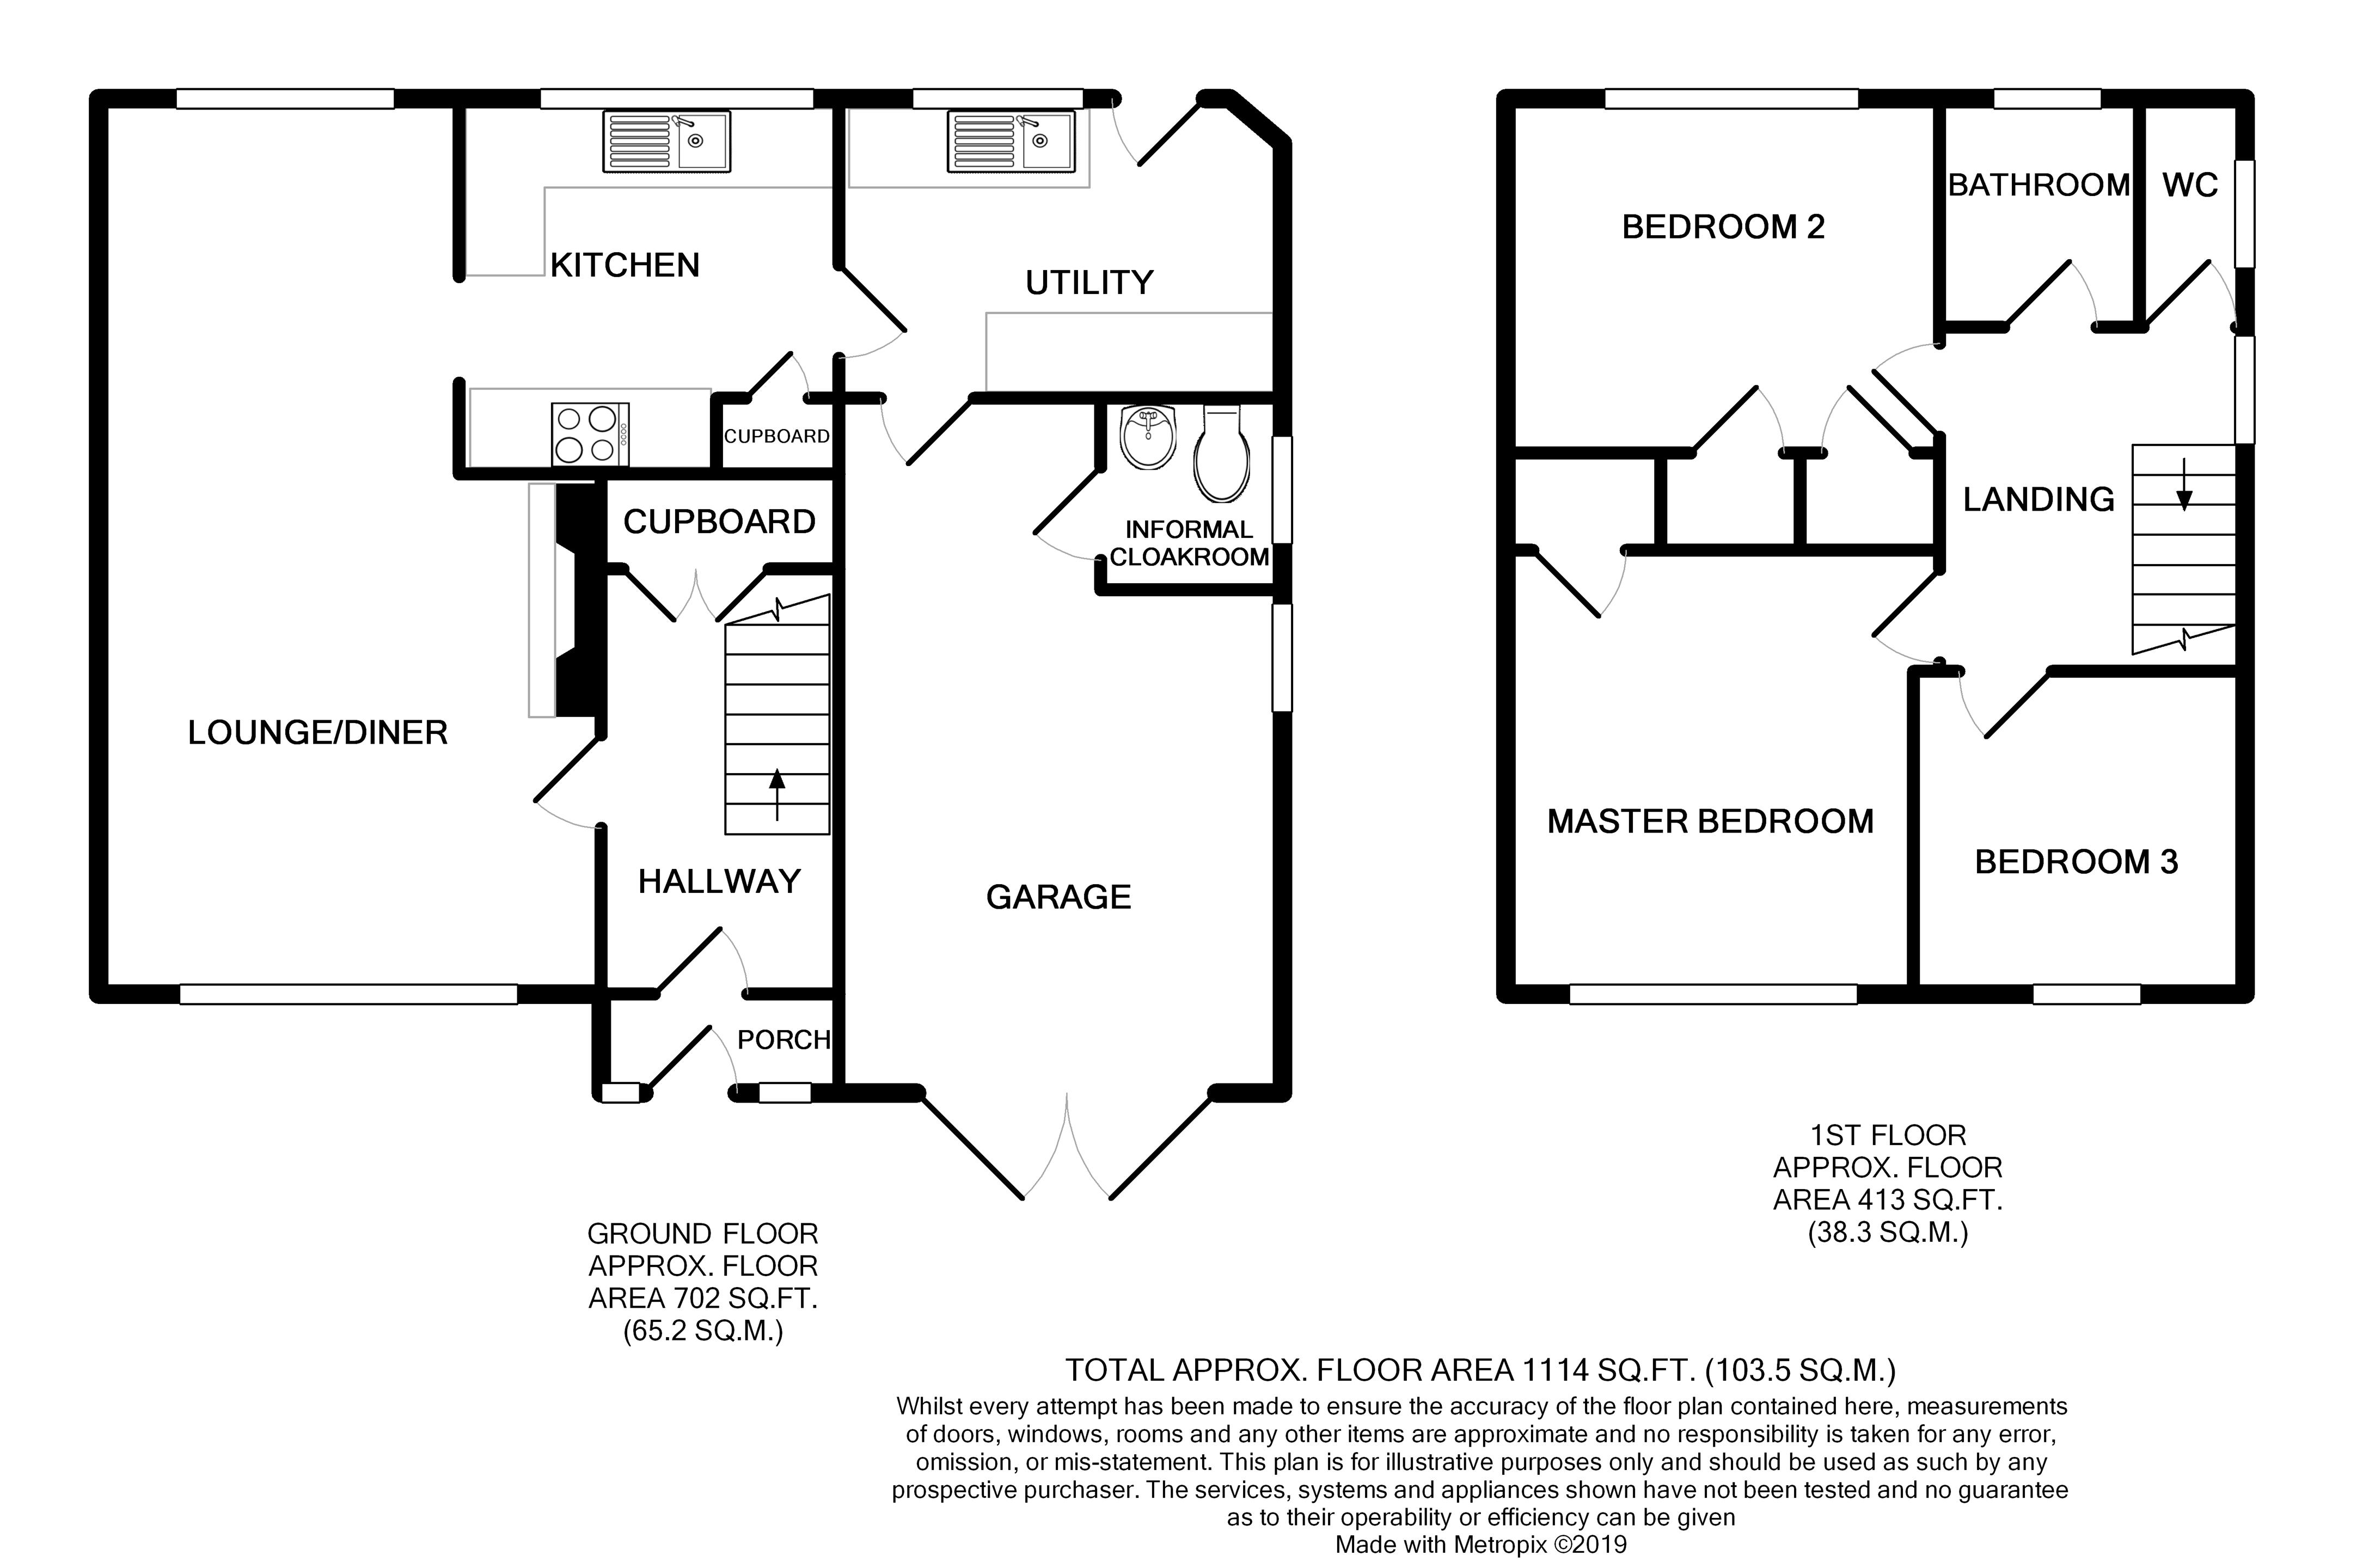door: (924, 1078, 1207, 1206), (1022, 457, 1115, 560), (1860, 569, 1956, 667), (1954, 661, 2056, 742), (1688, 383, 1785, 465), (1529, 537, 1627, 618), (1111, 86, 1202, 171), (654, 922, 751, 1003), (880, 385, 976, 465), (642, 1020, 737, 1101), (831, 269, 917, 357), (528, 738, 614, 824), (2009, 261, 2101, 338), (2150, 259, 2234, 334)
